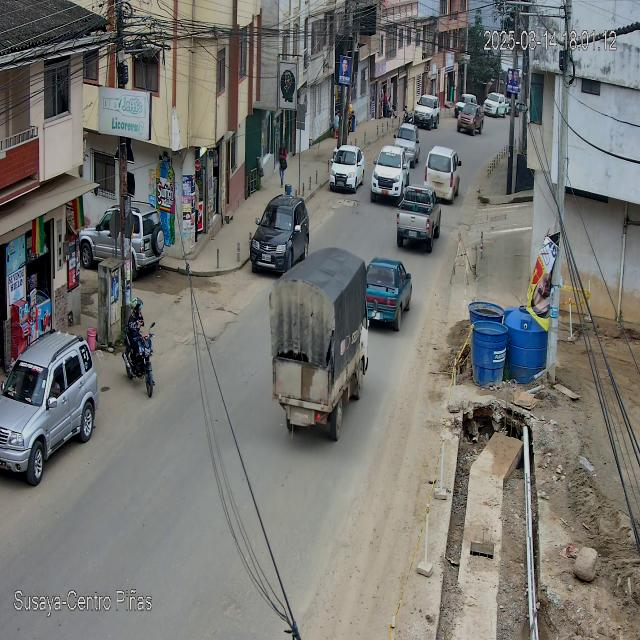CMT: (397, 184, 441, 252), (372, 144, 410, 204)
MOTORCYCLE: (123, 328, 157, 398)
SUV: (250, 195, 310, 279)
TRUCK: (271, 248, 369, 442)
